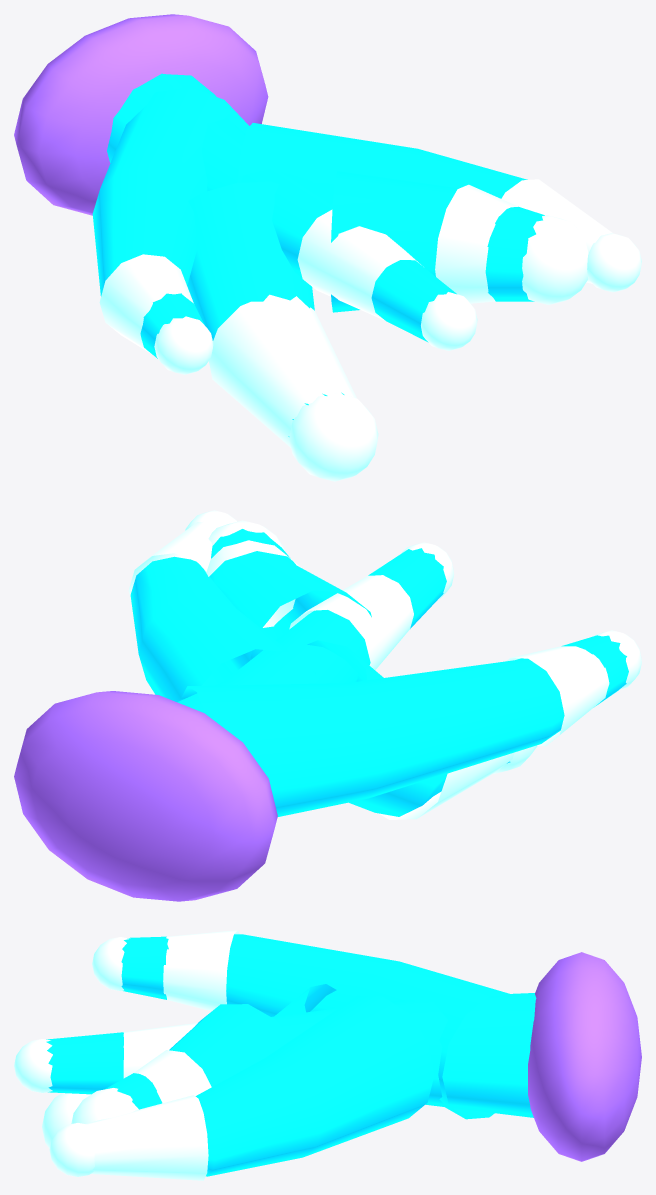
File: SpalakhCoralCyanNeon_v094.glb
The picture shows the model from 3 angles, top to bottom: view 1: azimuth 30°, elevation 25°; view 2: azimuth 150°, elevation 25°; view 3: azimuth 270°, elevation 25°; orthographic projection. The views are drawn at different scales.
Bounding box in the file's own units: 0.6984 × 0.3579 × 0.8853.
